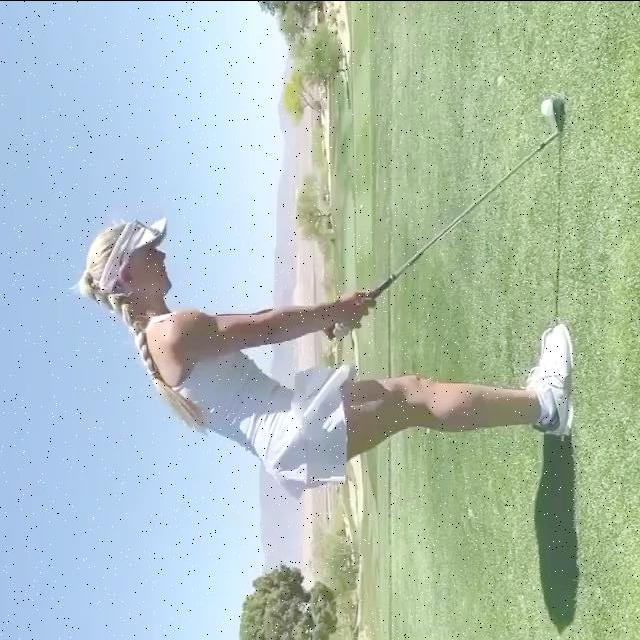golf ball: (542, 99, 553, 116)
golf club-handle: (326, 97, 564, 339)
golf club-head: (552, 97, 563, 133)
